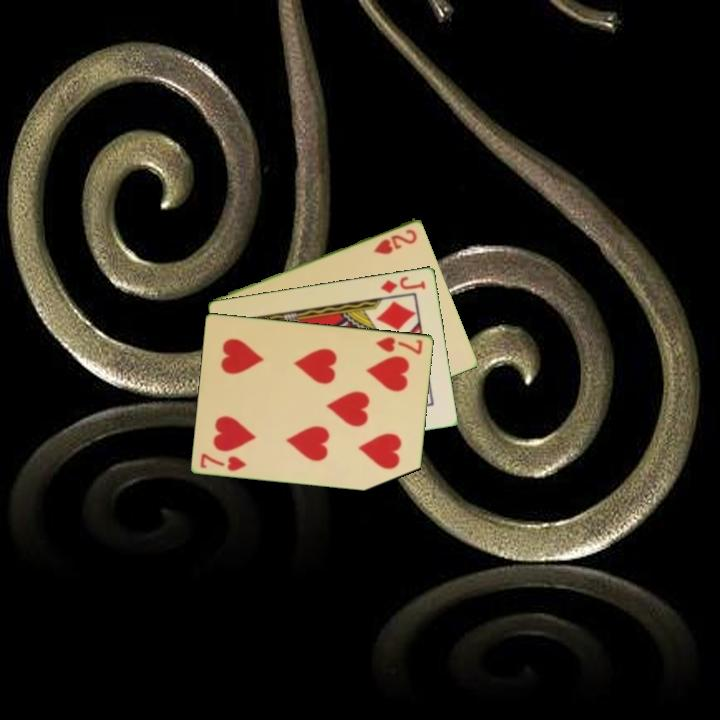2h: (370, 225, 420, 257)
7h: (197, 449, 249, 474), (372, 333, 426, 357)
Jd: (377, 273, 428, 296)
